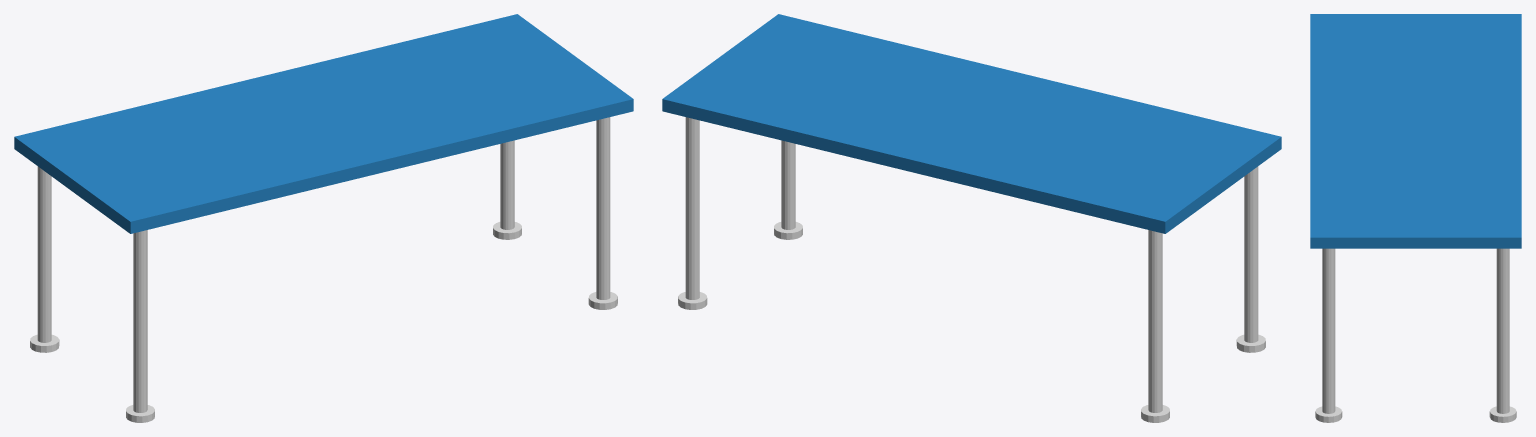
The model's file is Prop_Desk_07.fbx.
3 renders of one model, left to right at view 1: azimuth 30°, elevation 25°; view 2: azimuth 150°, elevation 25°; view 3: azimuth 270°, elevation 25°, orthographic. The views are drawn at different scales.
Visible parts, largest first — view 1: Prop_Desk_07; view 2: Prop_Desk_07; view 3: Prop_Desk_07.
Part boxes in pixels (x1,y1,x2,y2): Prop_Desk_07: (14, 14, 633, 422); Prop_Desk_07: (662, 14, 1281, 422); Prop_Desk_07: (1310, 14, 1521, 422).
Size of the model in its own units: 171 by 67.26 by 68.31.
